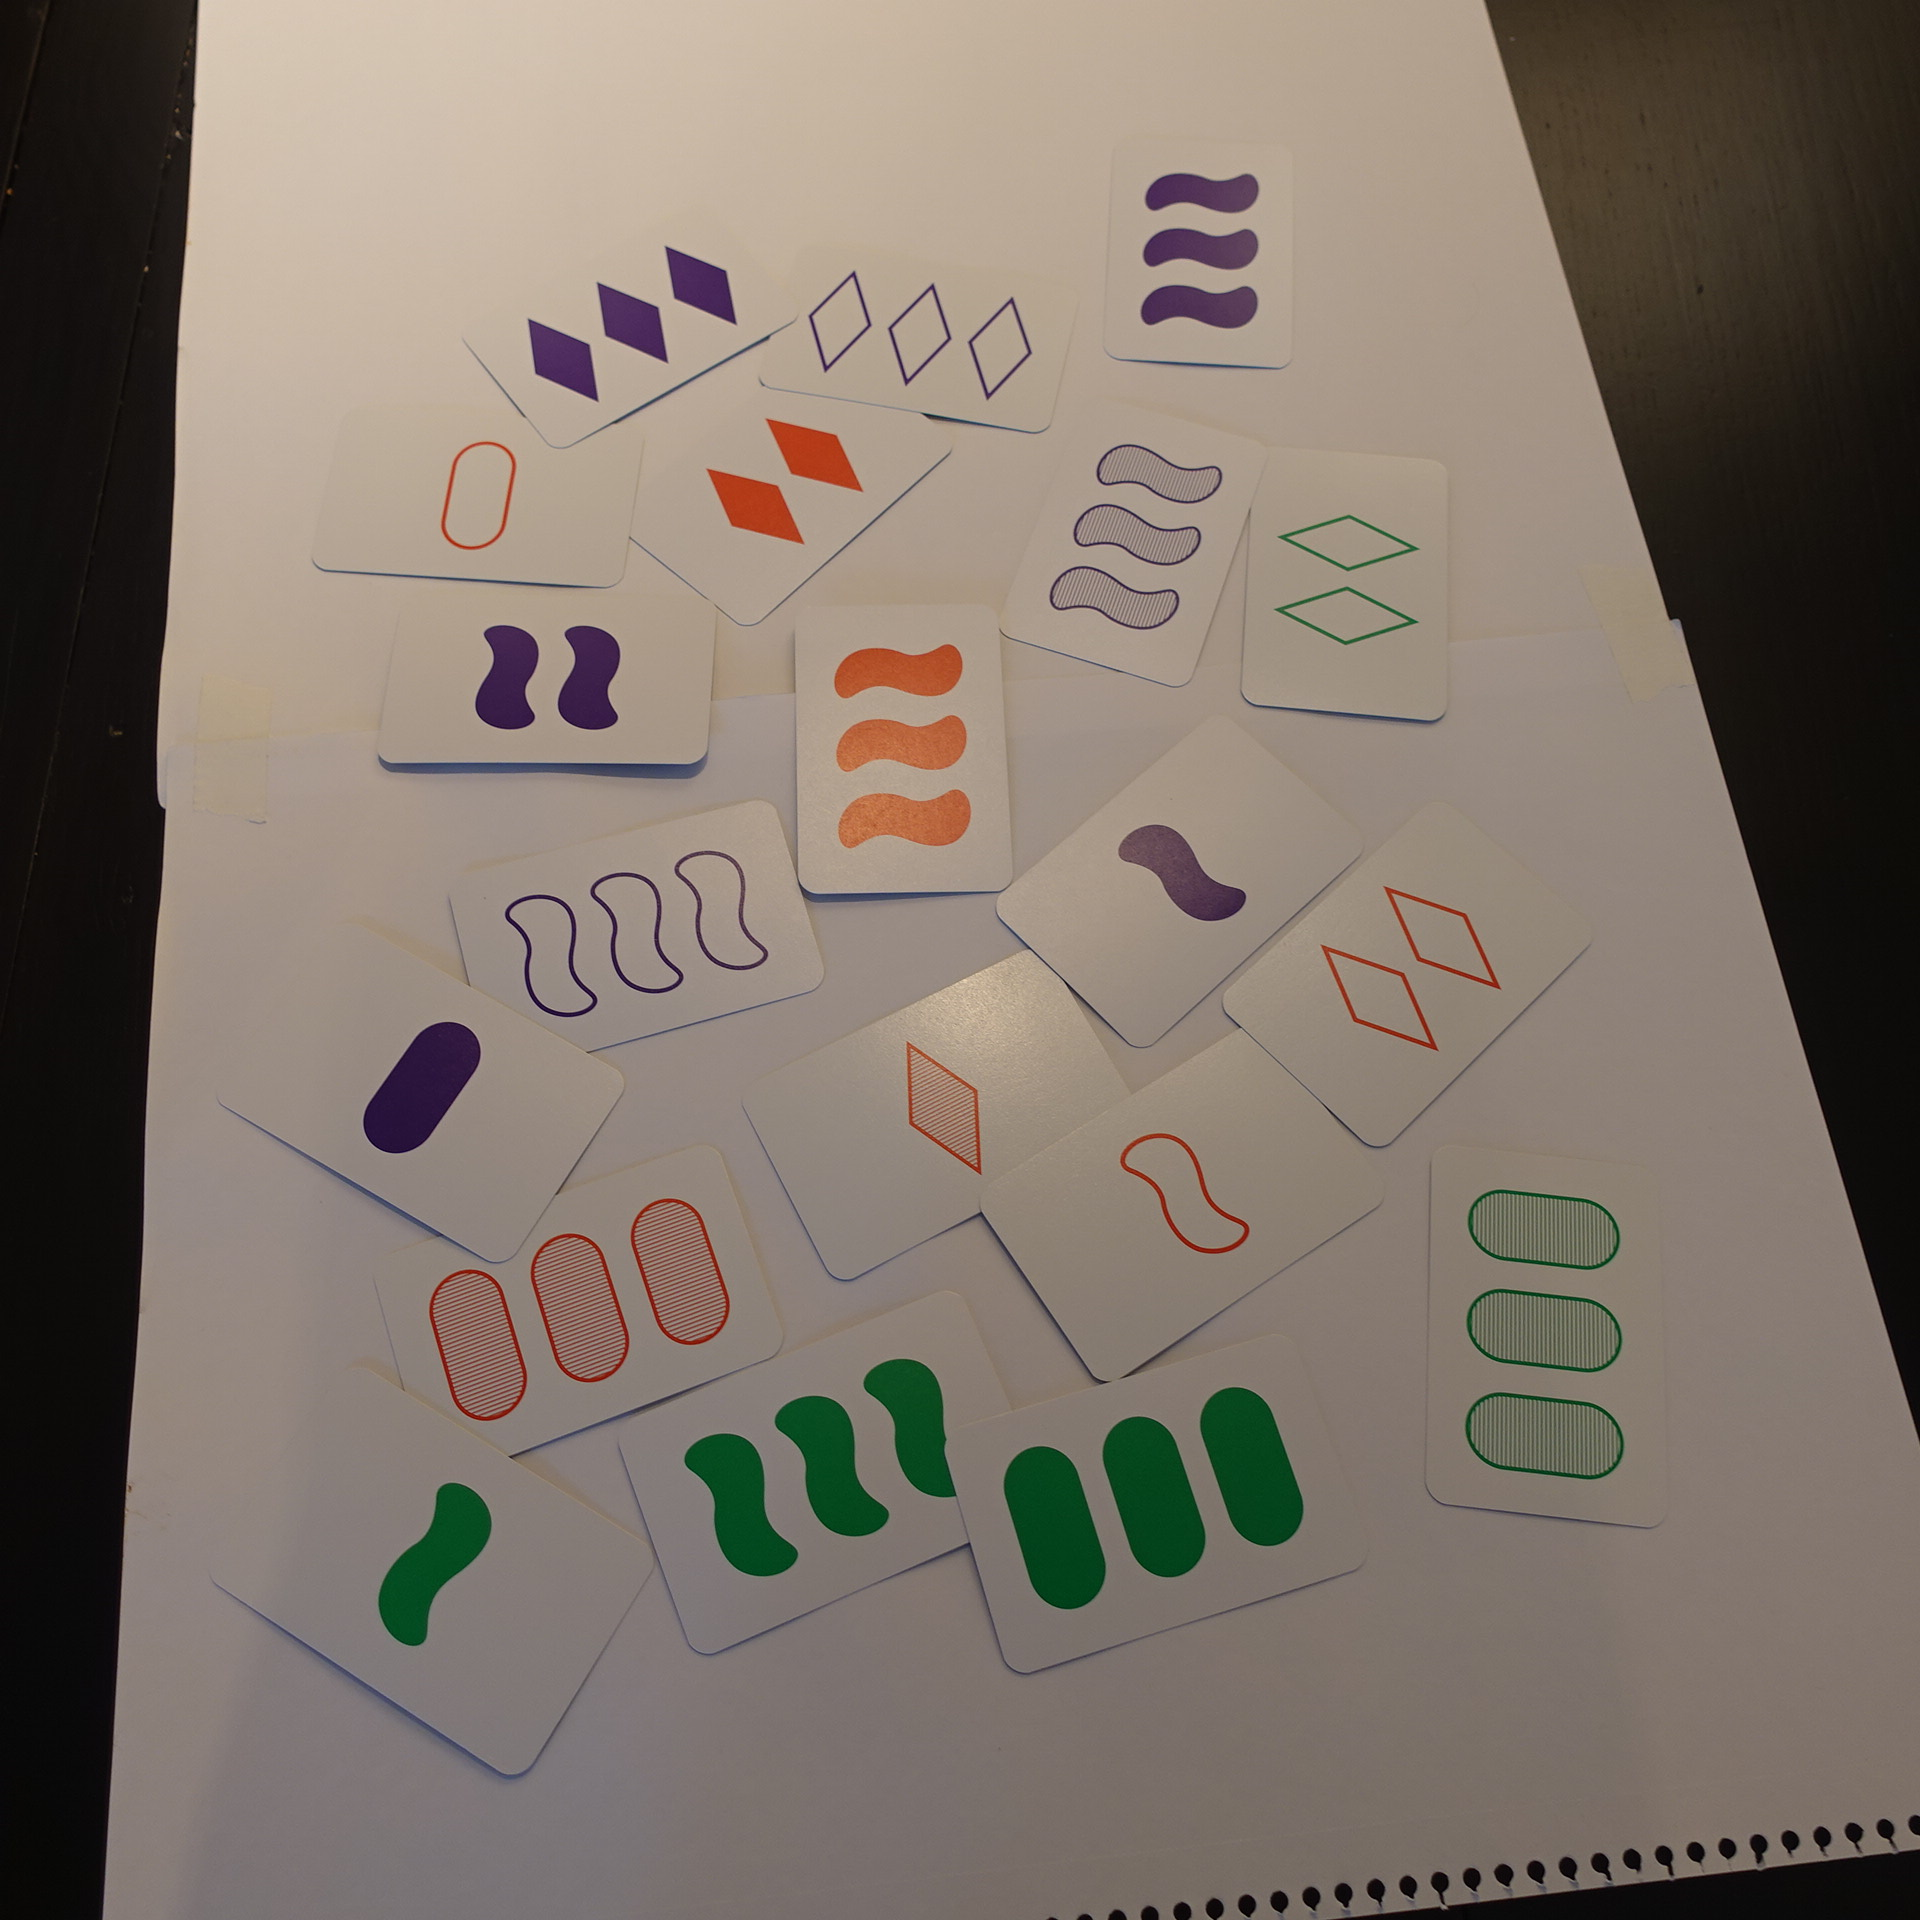c-3-f-o-g: (193, 1349, 666, 1793), (608, 1284, 1067, 1663), (971, 1011, 1398, 1393), (934, 1322, 1378, 1681), (360, 1131, 796, 1489), (213, 913, 635, 1271), (737, 948, 1159, 1291), (1215, 789, 1602, 1159), (985, 709, 1377, 1057), (1412, 1139, 1683, 1542), (438, 796, 833, 1069), (612, 348, 962, 633), (450, 204, 809, 454), (988, 390, 1271, 700), (781, 591, 1023, 905), (1227, 434, 1465, 738), (301, 396, 654, 600), (751, 236, 1088, 447), (367, 585, 726, 779), (1094, 127, 1305, 378)
